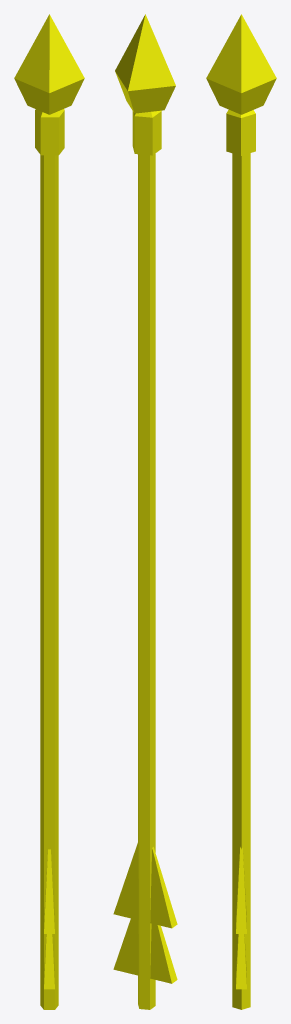
The model's file is _arrow_c_19.glb.
3 renders of one model, left to right at view 1: azimuth 90°, elevation 25°; view 2: azimuth 150°, elevation 25°; view 3: azimuth 270°, elevation 25°, orthographic.
Visible parts, largest first — view 1: arrow_c_19; view 2: arrow_c_19; view 3: arrow_c_19.
Boxes of the visible parts, x1=… form: arrow_c_19: x1=14, y1=14, x2=84, y2=1009; arrow_c_19: x1=113, y1=14, x2=177, y2=1009; arrow_c_19: x1=206, y1=14, x2=276, y2=1009.
Bounding box in the file's own units: 0.0396 × 0.6135 × 0.0396.
Materials: 1 (1 with a texture image).
